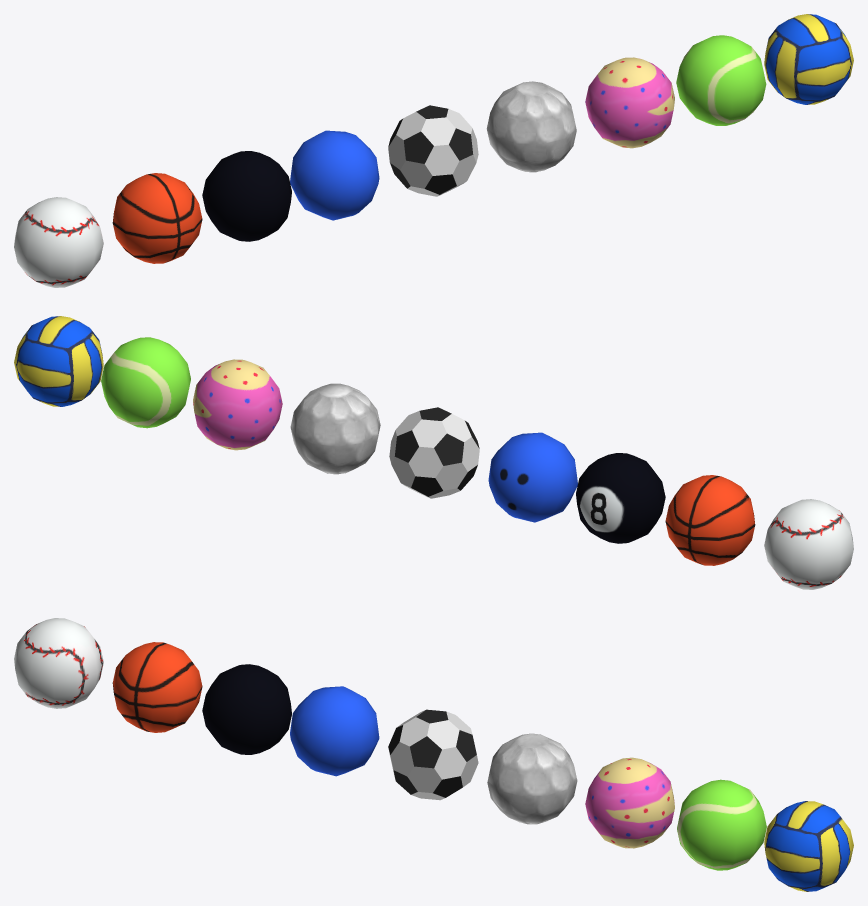
The model's file is Balls_Skins.fbx.
3 views of the same model, one above another, from view 1: azimuth 30°, elevation 25°; view 2: azimuth 150°, elevation 25°; view 3: azimuth 330°, elevation 25° (orthographic).
Visible parts, largest first — view 1: Ball.Ice.Cream, Ball.Basketball, Ball.Baseball, Ball.Golf, Ball.Volleyball, Ball.Billiard.Eight, Ball.Tennis, Ball.Football, Ball.Bowling; view 2: Ball.Golf, Ball.Ice.Cream, Ball.Basketball, Ball.Baseball, Ball.Volleyball, Ball.Tennis, Ball.Billiard.Eight, Ball.Football, Ball.Bowling; view 3: Ball.Golf, Ball.Ice.Cream, Ball.Basketball, Ball.Baseball, Ball.Volleyball, Ball.Tennis, Ball.Billiard.Eight, Ball.Football, Ball.Bowling.
Boxes of the visible parts, box(x1,y1,x2,y2) form: Ball.Ice.Cream: box(585, 57, 674, 148); Ball.Basketball: box(112, 173, 202, 263); Ball.Baseball: box(14, 197, 103, 287); Ball.Golf: box(486, 81, 576, 172); Ball.Volleyball: box(764, 14, 853, 104); Ball.Billiard.Eight: box(202, 151, 291, 241); Ball.Tennis: box(676, 35, 766, 125); Ball.Football: box(388, 105, 478, 196); Ball.Bowling: box(290, 130, 379, 220); Ball.Golf: box(290, 383, 380, 474); Ball.Ice.Cream: box(193, 359, 282, 450); Ball.Basketball: box(665, 475, 755, 565); Ball.Baseball: box(764, 499, 853, 589); Ball.Volleyball: box(14, 316, 103, 406); Ball.Tennis: box(101, 337, 190, 428); Ball.Billiard.Eight: box(576, 453, 665, 543); Ball.Football: box(389, 407, 479, 498); Ball.Bowling: box(488, 432, 577, 522); Ball.Golf: box(487, 733, 577, 824); Ball.Ice.Cream: box(585, 757, 674, 848); Ball.Basketball: box(112, 642, 202, 732); Ball.Baseball: box(14, 618, 103, 708); Ball.Volleyball: box(764, 801, 853, 891); Ball.Tennis: box(677, 779, 766, 870); Ball.Billiard.Eight: box(202, 664, 291, 754); Ball.Football: box(388, 709, 478, 800); Ball.Bowling: box(290, 686, 379, 776).
Size of the model in its own units: 20.96 by 2 by 2.
